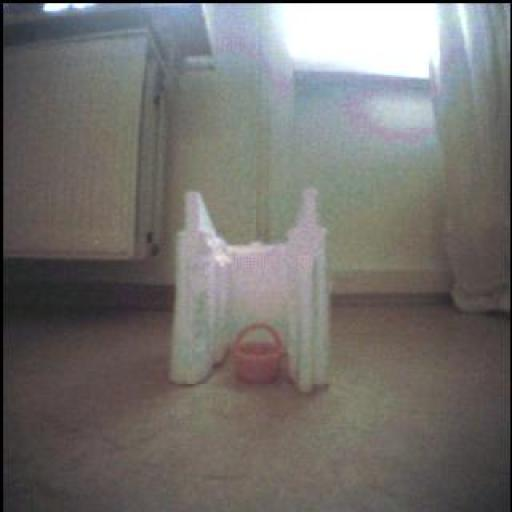Basket: (233, 324, 284, 385)
